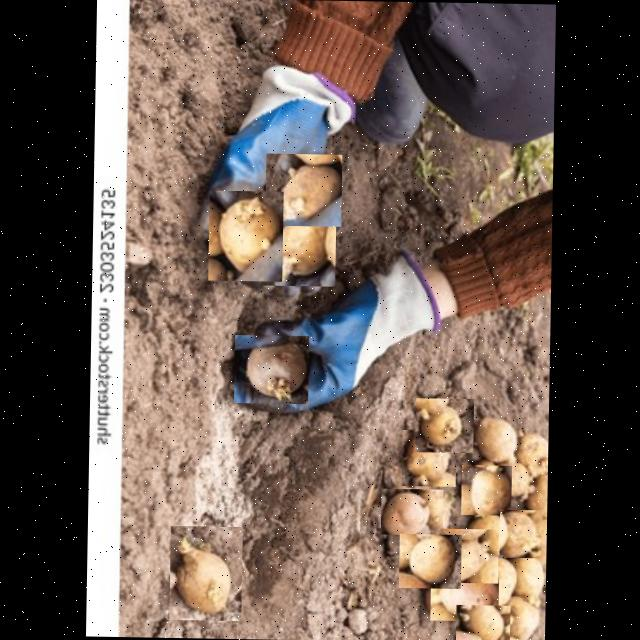Sprouted potato: (168, 525, 242, 621), (206, 190, 282, 281), (260, 207, 335, 286), (264, 153, 341, 226), (232, 334, 308, 404), (428, 572, 498, 621), (398, 534, 460, 588), (440, 528, 498, 583), (413, 398, 472, 452), (400, 429, 455, 486), (379, 488, 442, 535), (474, 413, 522, 473), (460, 464, 510, 516), (498, 508, 541, 558), (454, 604, 509, 640)
